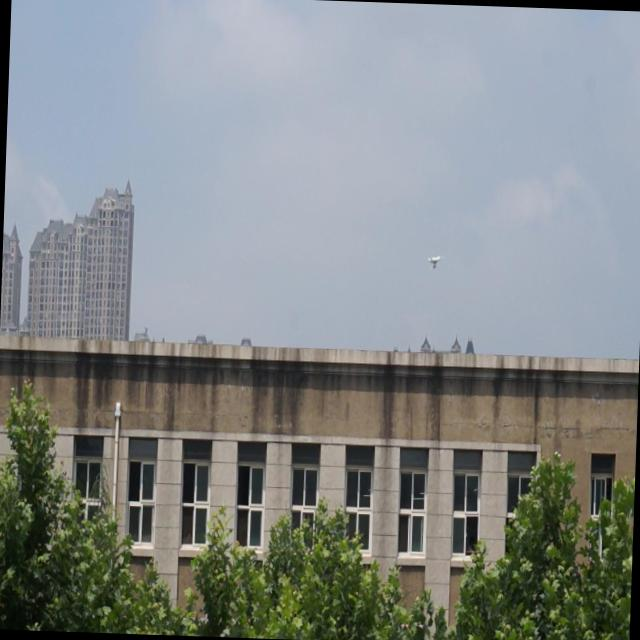drone: (426, 248, 446, 272)
